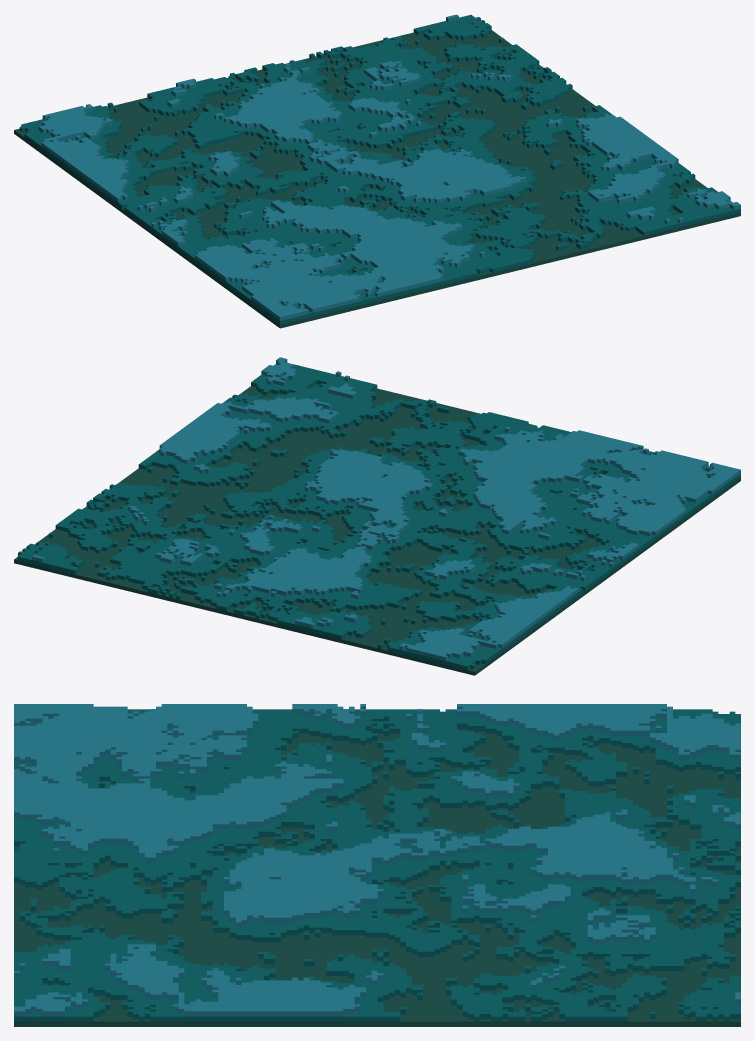
The model's file is big_tile.fbx.
3 renders of one model, top to bottom at view 1: azimuth 30°, elevation 25°; view 2: azimuth 150°, elevation 25°; view 3: azimuth 270°, elevation 25°, orthographic. The views are drawn at different scales.
Parts seen in each view (by area): view 1: AcnCreateTerrain; view 2: AcnCreateTerrain; view 3: AcnCreateTerrain.
Part boxes in pixels (left/top/right/bottom): AcnCreateTerrain: left=14, top=14, right=740, bottom=328; AcnCreateTerrain: left=14, top=357, right=740, bottom=675; AcnCreateTerrain: left=14, top=704, right=740, bottom=1026.
Size of the model in its own units: 128 by 3 by 128.
